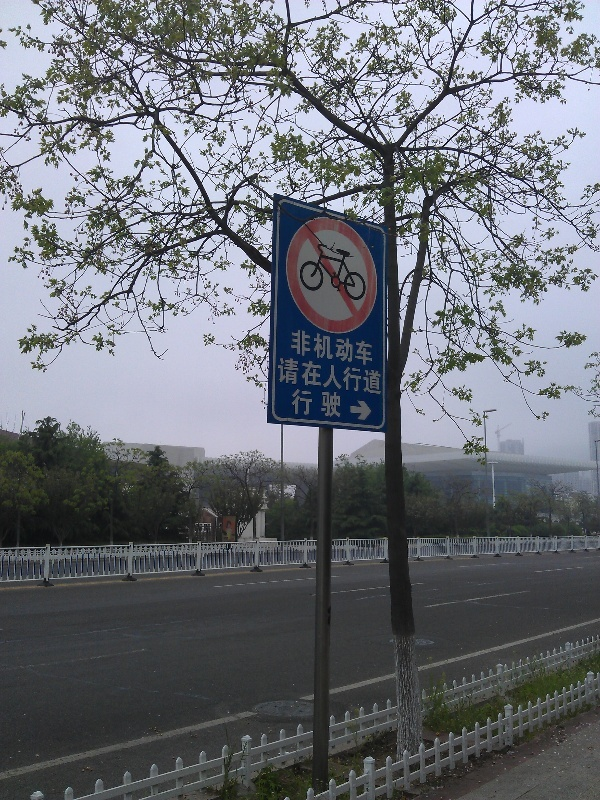text: (305, 328, 320, 368), (321, 328, 336, 368), (337, 328, 352, 368), (353, 328, 368, 368), (289, 356, 304, 396), (305, 356, 320, 396), (321, 356, 336, 396), (337, 356, 352, 396), (353, 356, 368, 396), (369, 356, 382, 396), (305, 387, 320, 420), (321, 387, 336, 420), (292, 328, 304, 368), (278, 356, 288, 396), (292, 387, 304, 420), (337, 387, 343, 420), (369, 328, 373, 368)
